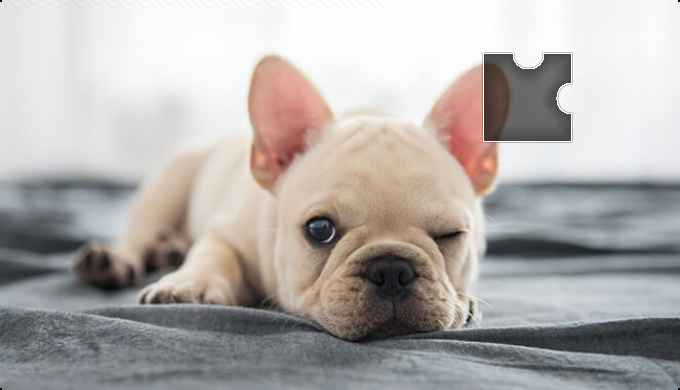gap: (483, 54, 572, 140)
